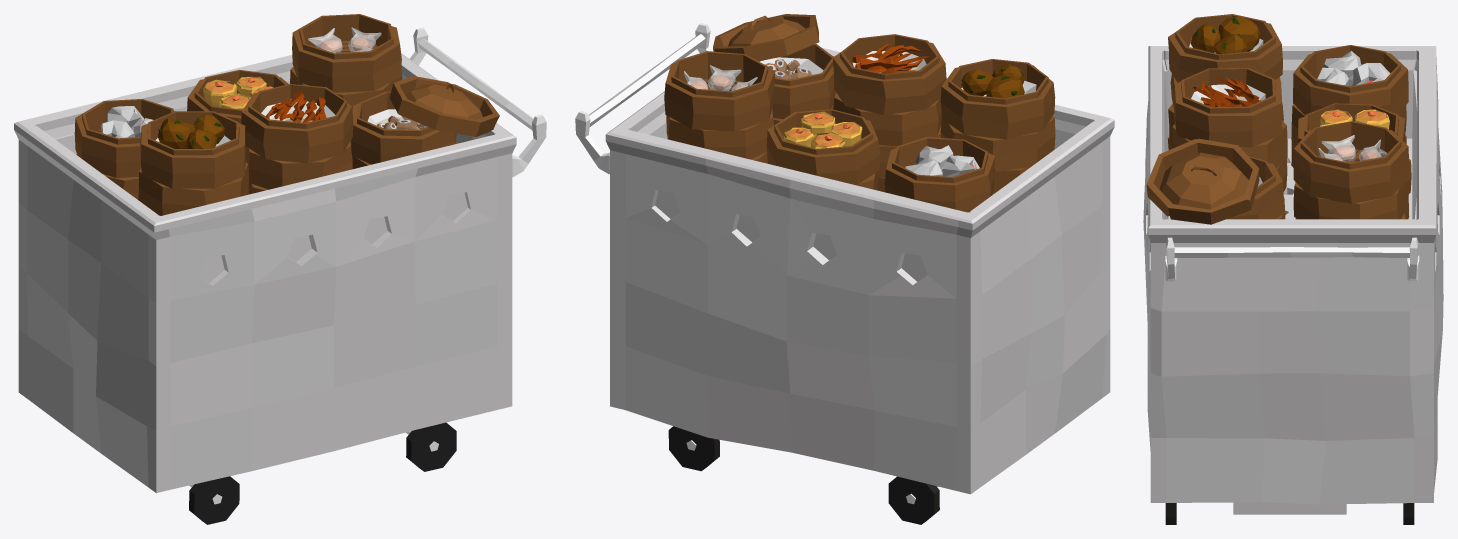
Rendered from Dim_Sum_Cart_1.fbx.
3 views of the same model, side by side, from view 1: azimuth 30°, elevation 25°; view 2: azimuth 150°, elevation 25°; view 3: azimuth 270°, elevation 25° (orthographic). The views are drawn at different scales.
Visible parts, largest first — view 1: Cube.013; view 2: Cube.013; view 3: Cube.013.
Boxes of the visible parts, left/top/right/bottom form: Cube.013: left=14, top=14, right=546, bottom=524; Cube.013: left=575, top=14, right=1114, bottom=524; Cube.013: left=1143, top=14, right=1443, bottom=524.
Size of the model in its own units: 850 by 759 by 530.
